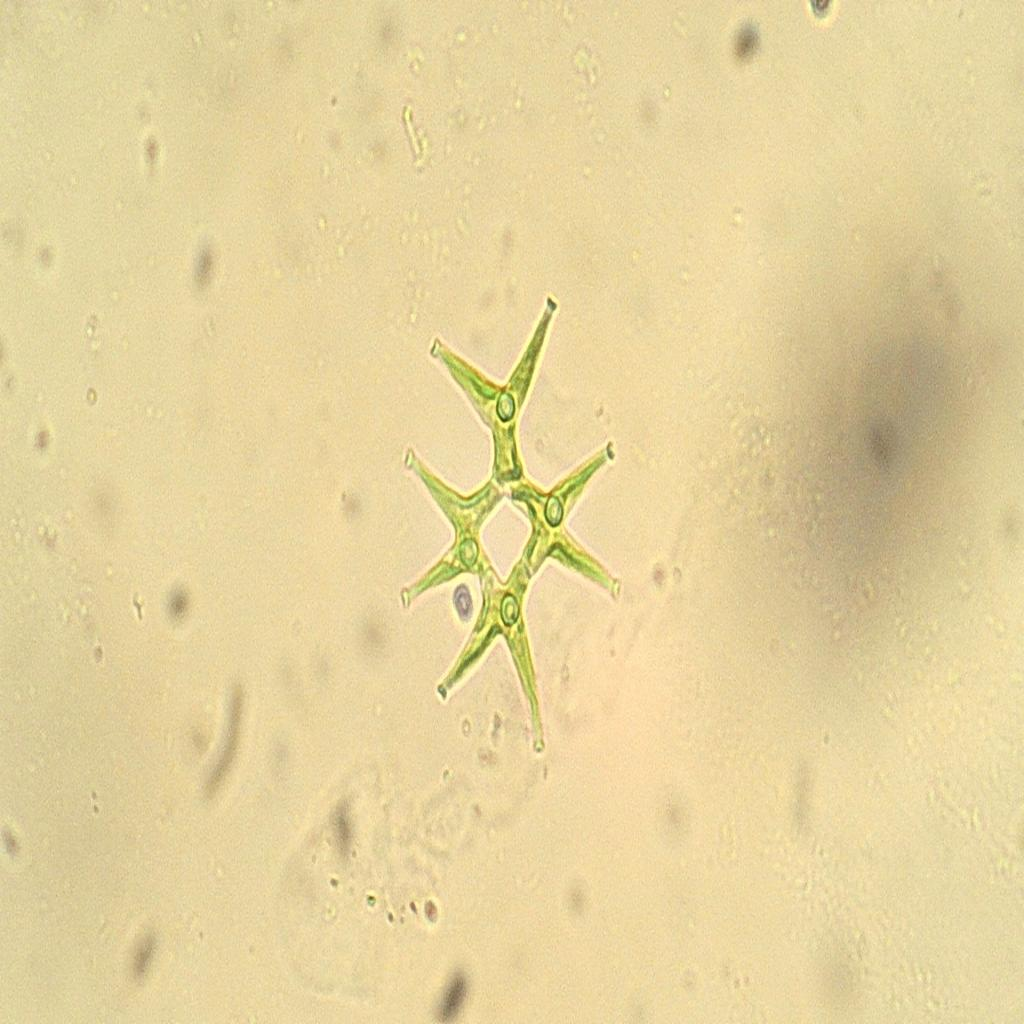Pediastrum_CT: (394, 254, 628, 766)
